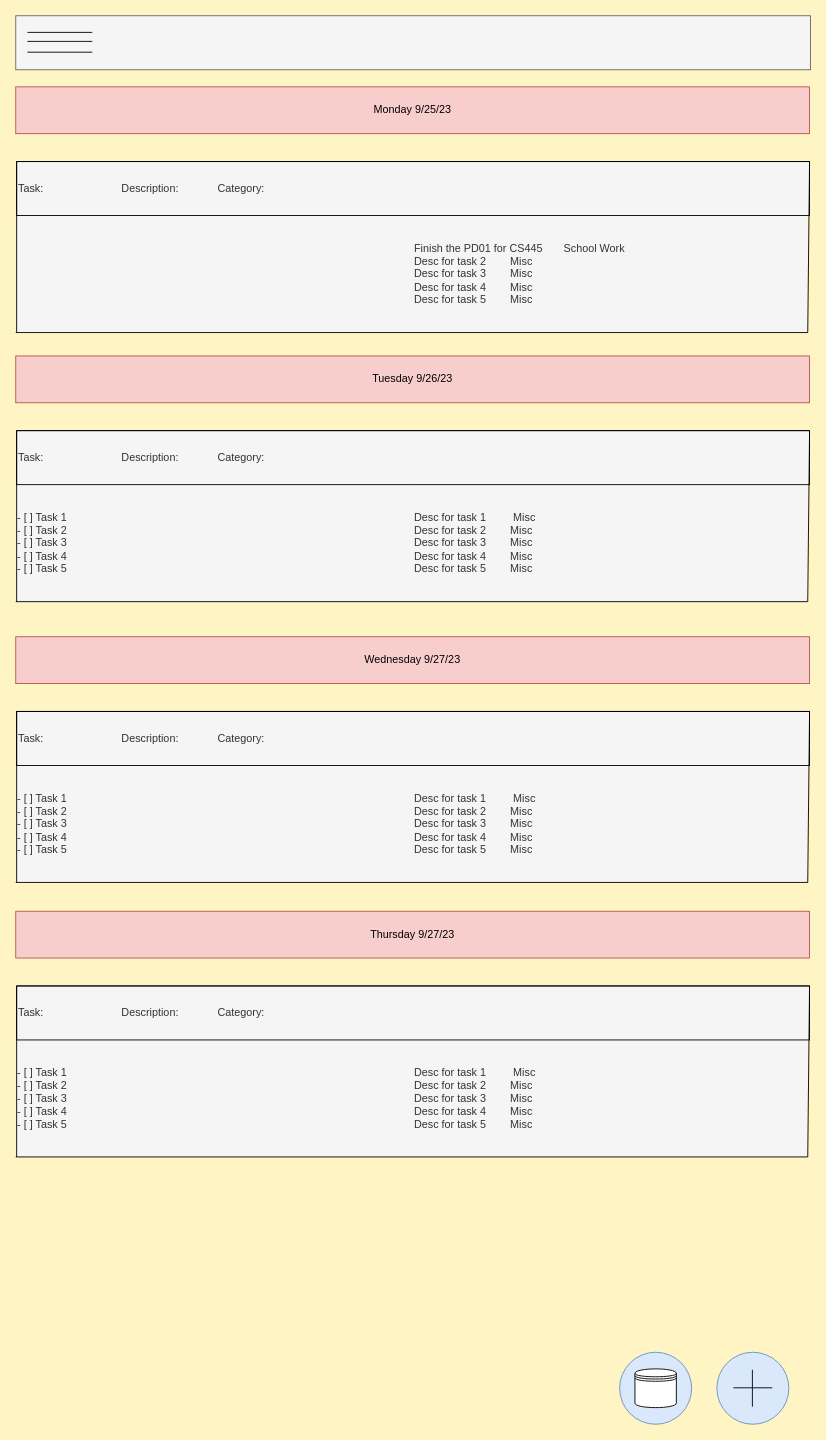
Some shapes in this 826 by 1440 pixel diagram are drawn without their labels. Each missing label, with the box of its shape:
- [ ] Project Deliverable 01 - [ ] Task 2 - [ ] Task 3 - [ ] Task 4 - [ ] Task 5: (15, 215, 412, 332)
Dragon Taska': (15, 15, 810, 70)
